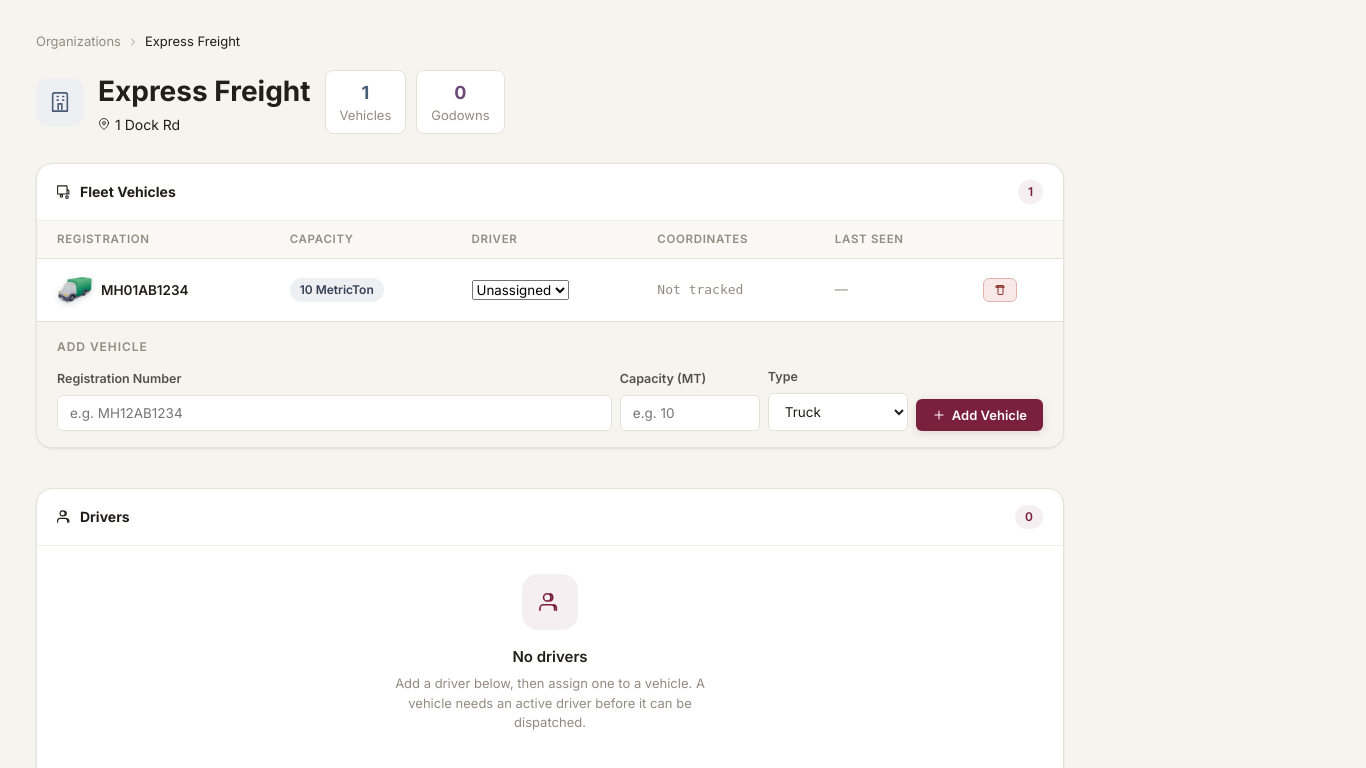
Scenario: OrganizationDetail page › deletes a vehicle only after the confirm prompt is accepted
This screenshot has width=1366, height=768.
Click the 1st button at (1000, 290), box [983,278,1017,302]
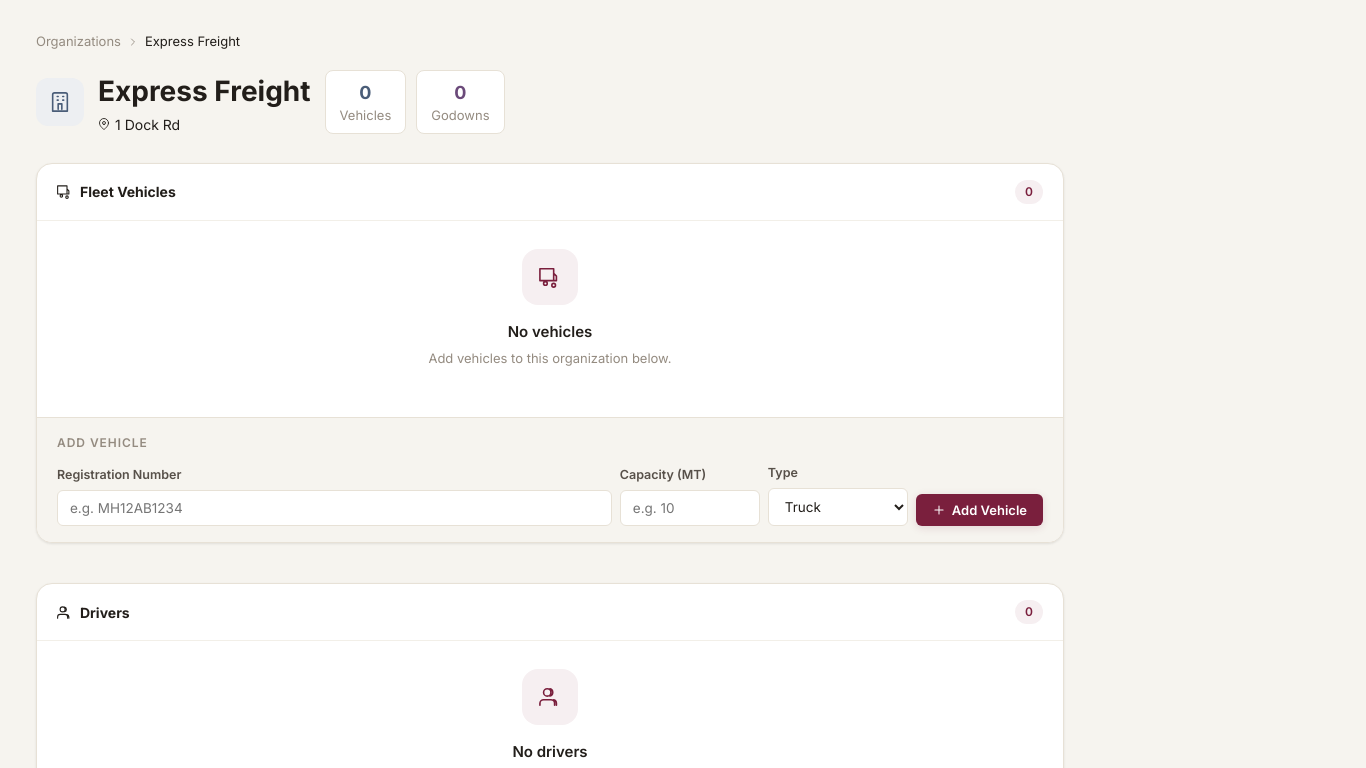
Now the text "MH01AB1234" is gone
